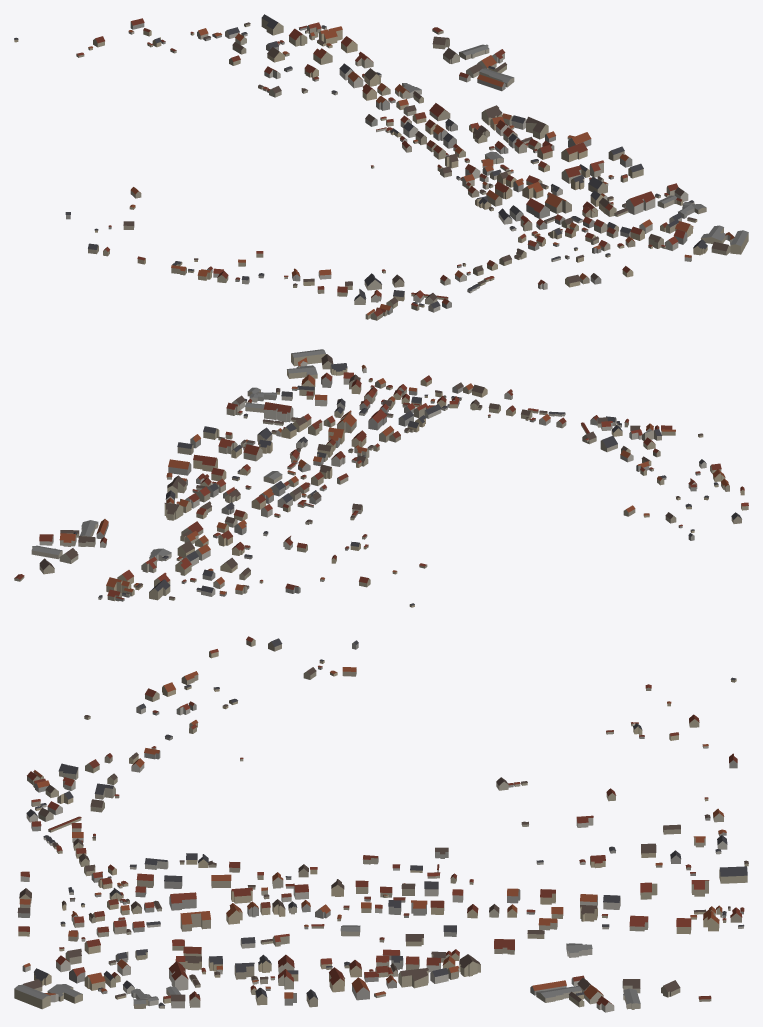
The picture shows the model from 3 angles, top to bottom: view 1: azimuth 30°, elevation 25°; view 2: azimuth 150°, elevation 25°; view 3: azimuth 270°, elevation 25°; orthographic projection. The views are drawn at different scales.
Visible parts, largest first — view 1: buildings; view 2: buildings; view 3: buildings.
Boxes of the visible parts, left/top/right/bottom form: buildings: left=14, top=14, right=748, bottom=320; buildings: left=14, top=349, right=748, bottom=607; buildings: left=14, top=636, right=748, bottom=1012.
Size of the model in its own units: 816 by 127 by 814.
